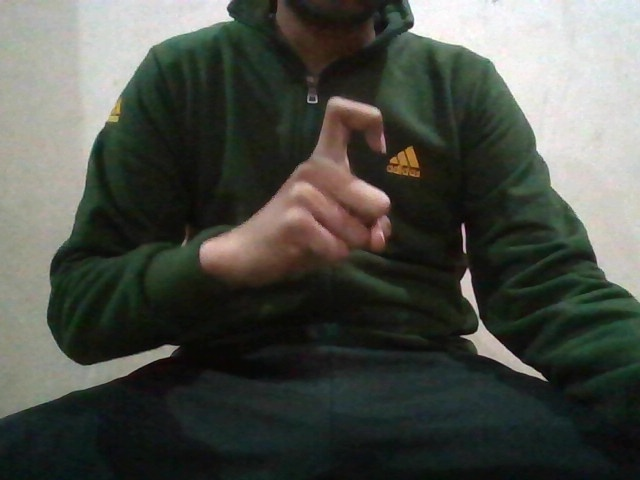P: (280, 96, 399, 283)
